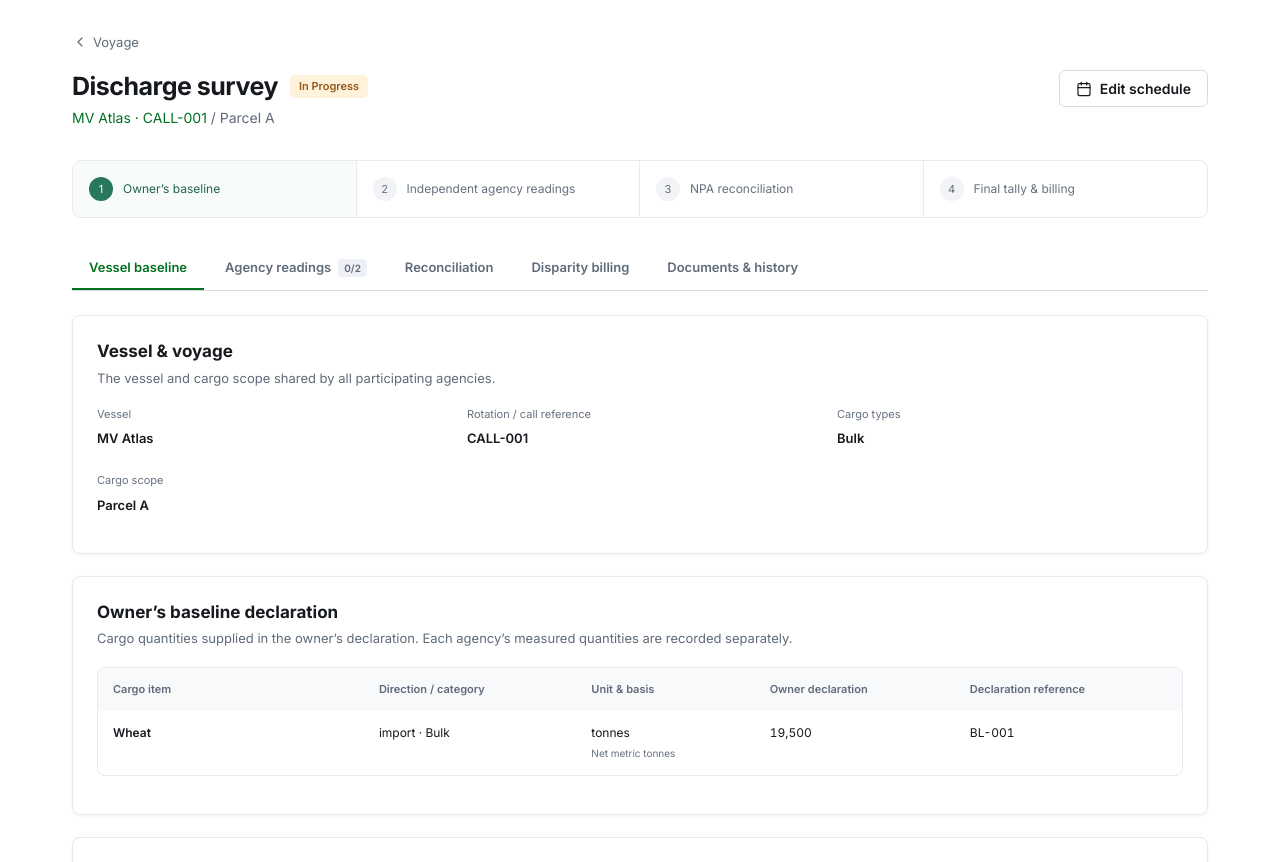
Test case: measurement workflow › requires an agency reading before reconciliation even when all returns are optional
The width and height of the screenshot is (1280, 862).
Expected: the heading "Discharge survey" is shown, [72, 70, 278, 103]
Click the tab "Reconciliation".
click(449, 268)  # box [388, 246, 510, 290]
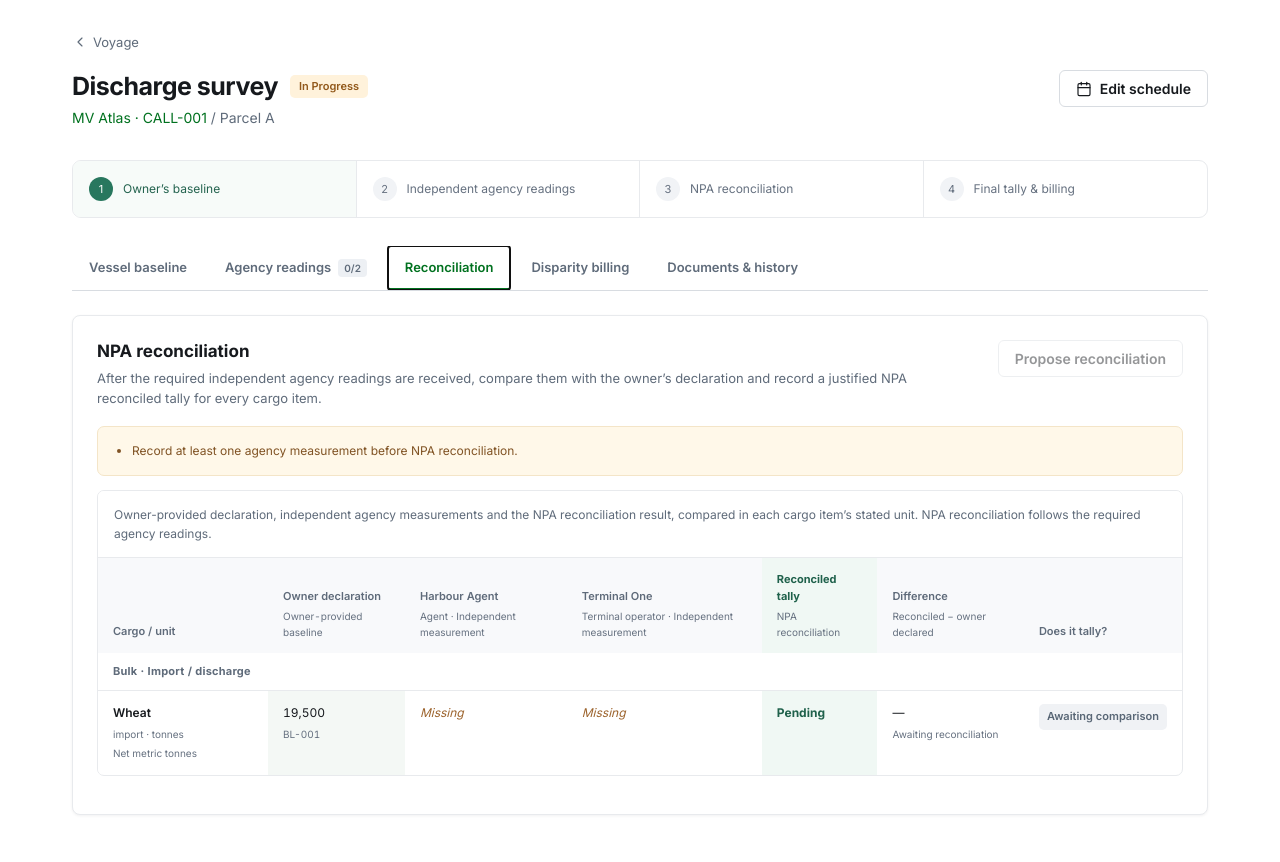
Expected: the button "Propose reconciliation" is disabled, [998, 340, 1183, 377]
Expected: the list item "Record at least one agency measurement before NPA reconciliation." is shown, [132, 443, 518, 458]
